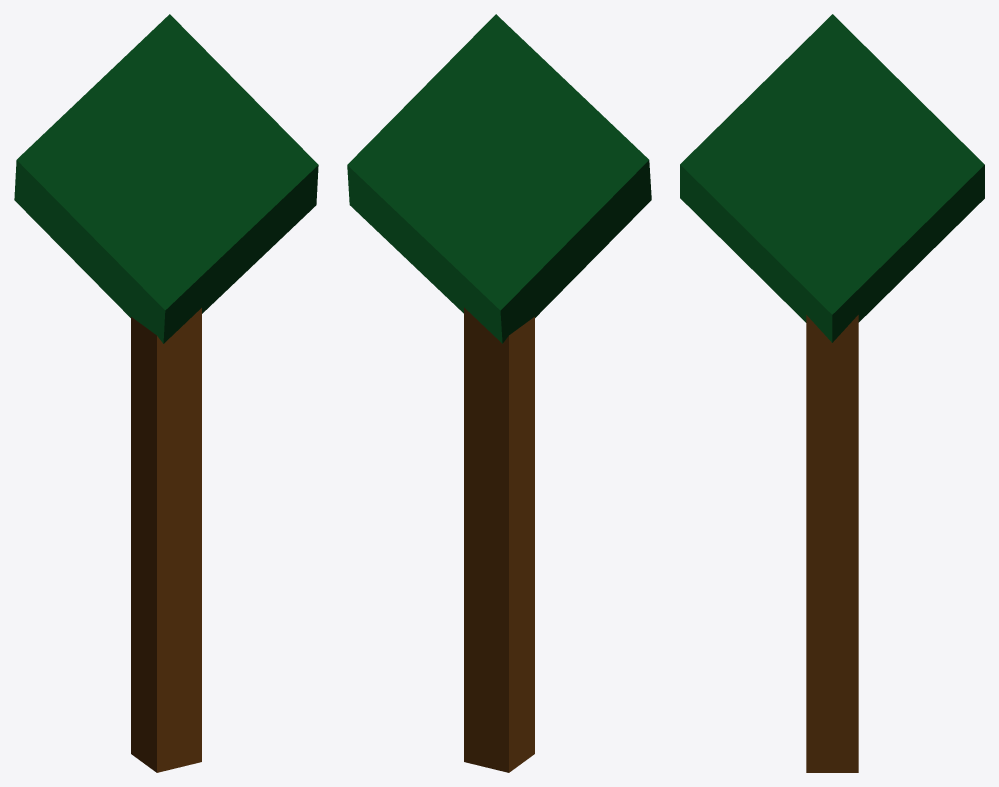
The model's file is SimpleTreeLOD1.fbx.
3 renders of one model, left to right at view 1: azimuth 30°, elevation 25°; view 2: azimuth 150°, elevation 25°; view 3: azimuth 270°, elevation 25°, orthographic.
Parts seen in each view (by area): view 1: Cube.002, Cube.001; view 2: Cube.002, Cube.001; view 3: Cube.002, Cube.001.
Boxes of the visible parts, box(x1,y1,x2,y2) form: Cube.002: box(14, 14, 318, 343); Cube.001: box(131, 308, 201, 772); Cube.002: box(347, 14, 651, 343); Cube.001: box(464, 307, 534, 772); Cube.002: box(680, 14, 984, 342); Cube.001: box(806, 315, 858, 772).
Size of the model in its own units: 2.72 by 6.45 by 2.38.
